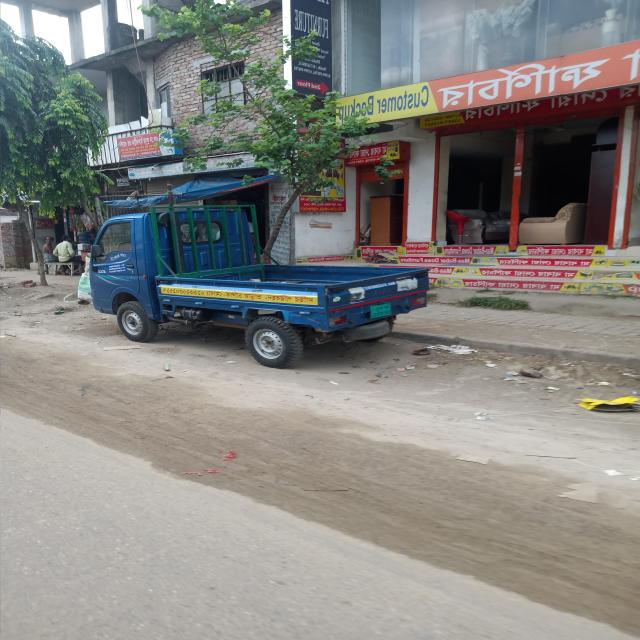truck: (88, 204, 430, 368)
